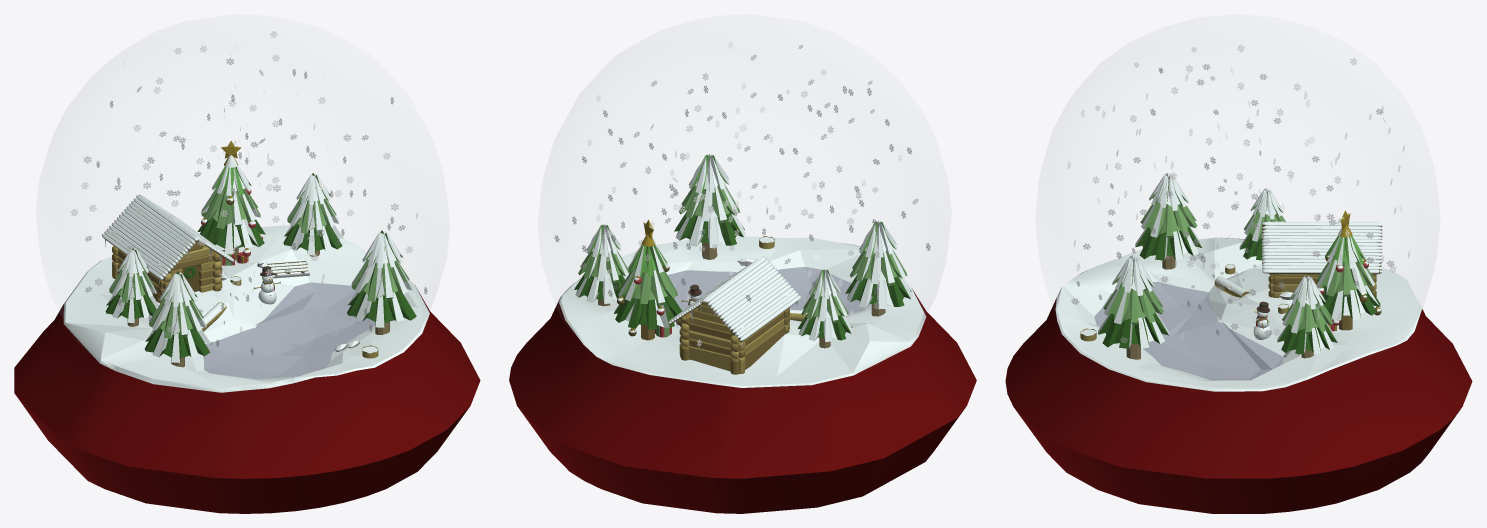
Rendered from snowglobe2.glb.
3 renders of one model, left to right at view 1: azimuth 30°, elevation 25°; view 2: azimuth 150°, elevation 25°; view 3: azimuth 270°, elevation 25°, orthographic.
Visible parts, largest first — view 1: polySurface19, polySurface18, group19_pCone18, polySurface22, polySurface20, polySurface169, polySurface50, polySurface48, polySurface162, polySurface30, polySurface28, polySurface40 (+6 smaller); view 2: polySurface19, group19_pCone18, polySurface18, polySurface22, polySurface50, polySurface20, polySurface162, polySurface169, polySurface48, polySurface28, polySurface42, polySurface30 (+6 smaller); view 3: polySurface19, polySurface18, group19_pCone18, polySurface22, polySurface20, polySurface50, polySurface169, polySurface48, polySurface162, polySurface30, polySurface28, polySurface23 (+4 smaller).
Boxes of the visible parts, box(x1,y1,x2,y2) form: polySurface19: box(14, 225, 480, 513); polySurface18: box(203, 282, 375, 379); group19_pCone18: box(101, 194, 234, 303); polySurface22: box(347, 290, 417, 327); polySurface20: box(351, 259, 412, 301); polySurface169: box(201, 187, 260, 228); polySurface50: box(144, 328, 210, 362); polySurface48: box(149, 298, 206, 338); polySurface162: box(197, 218, 265, 253); polySurface30: box(283, 224, 343, 255); polySurface28: box(287, 197, 338, 233); polySurface40: box(109, 270, 156, 302); polySurface19: box(509, 236, 976, 513); group19_pCone18: box(668, 256, 801, 374); polySurface18: box(668, 267, 870, 314); polySurface22: box(674, 211, 745, 247); polySurface50: box(845, 274, 912, 309); polySurface20: box(679, 183, 740, 223); polySurface162: box(613, 294, 681, 329); polySurface169: box(618, 266, 677, 306); polySurface48: box(850, 248, 907, 286); polySurface28: box(578, 249, 629, 283); polySurface42: box(798, 313, 852, 341); polySurface30: box(574, 273, 626, 303); polySurface19: box(1005, 237, 1472, 513); polySurface18: box(1094, 281, 1283, 380); group19_pCone18: box(1262, 221, 1382, 297); polySurface22: box(1098, 312, 1169, 348); polySurface20: box(1103, 286, 1163, 324); polySurface50: box(1135, 226, 1202, 260); polySurface169: box(1316, 259, 1374, 296); polySurface48: box(1140, 202, 1197, 237); polySurface162: box(1322, 284, 1380, 320); polySurface30: box(1277, 323, 1337, 354); polySurface28: box(1282, 301, 1333, 333); polySurface23: box(1112, 255, 1154, 295).
Size of the model in its own units: 0.5529 by 0.5227 by 0.5601.
25 materials, 1 textured.
